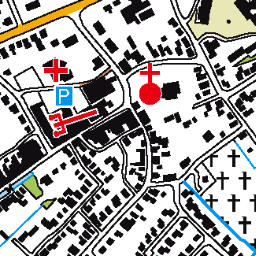church: (133, 58, 165, 108)
